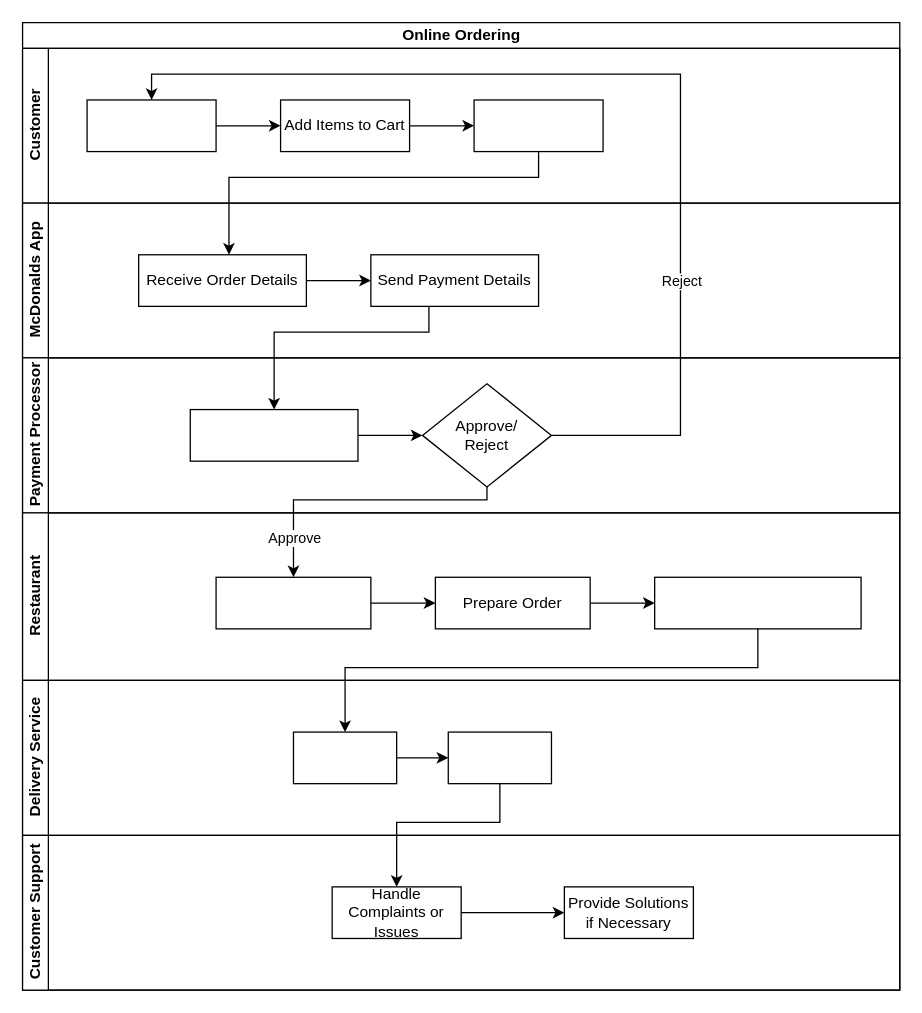
This 922x1013 diagram has some shape labels left out. The shapes that lost their labels are listed below. From the top down, each one's centre as x and y in pixels, then its label:
At pixel 151 125: "Browse Menu".
At pixel 538 125: "Submit Order".
At pixel 273 434: "Verify and Authorize Payment".
At pixel 293 602: "Receive Authorized Order Details".
At pixel 757 602: "Notify Delivery Service and Customer for PickUp".
At pixel 344 757: "Collect Order".
At pixel 499 757: "Deliver Order".
